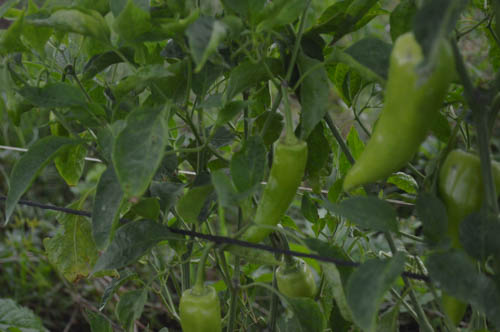ChiliPepper: (345, 40, 447, 200), (238, 144, 313, 241), (443, 154, 500, 251), (268, 267, 326, 319), (179, 286, 222, 328)
